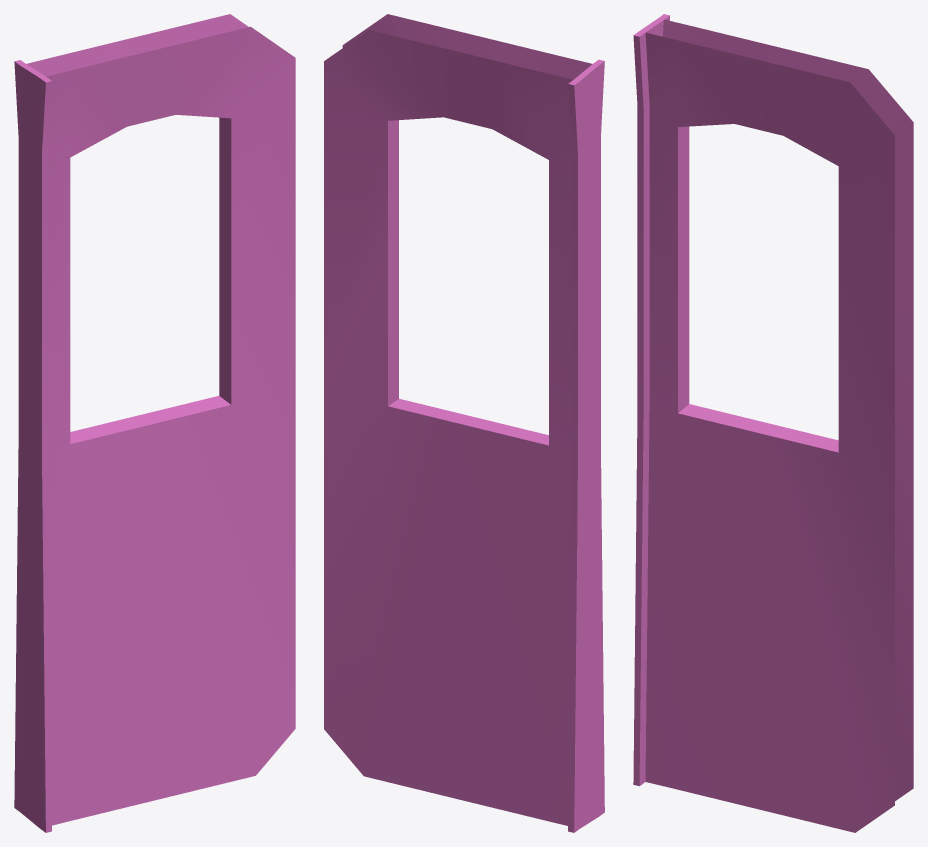
The model's file is NewTrain_Door.fbx.
3 renders of one model, left to right at view 1: azimuth 30°, elevation 25°; view 2: azimuth 150°, elevation 25°; view 3: azimuth 330°, elevation 25°, orthographic.
Visible parts, largest first — view 1: Door.001; view 2: Door.001; view 3: Door.001.
Part boxes in pixels (x1=…): Door.001: x1=14, y1=14, x2=295, y2=832; Door.001: x1=324, y1=14, x2=604, y2=832; Door.001: x1=633, y1=14, x2=913, y2=832.
Size of the model in its own units: 76.69 by 215 by 16.12.
